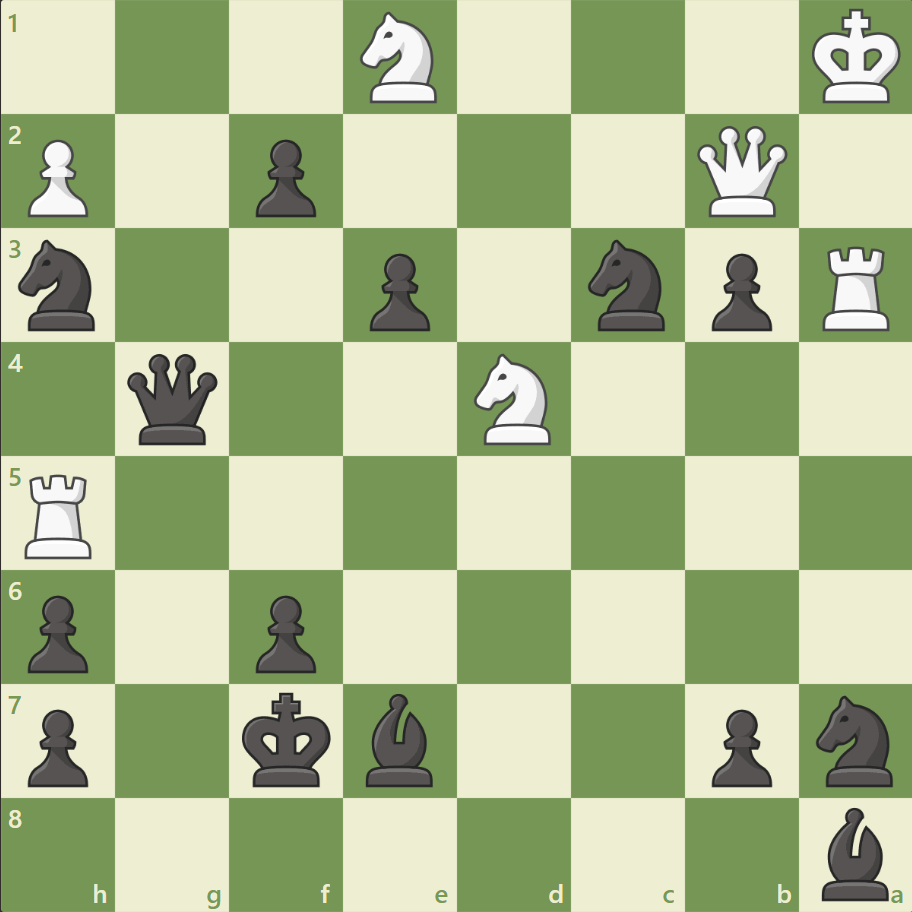K: (806, 4, 906, 112)
N: (351, 7, 449, 110), (465, 348, 562, 450)
P: (20, 132, 95, 223)
Q: (691, 122, 790, 222)
R: (19, 466, 102, 563), (814, 239, 897, 336)
b: (812, 801, 896, 904), (358, 687, 442, 790)
k: (238, 685, 338, 793)
n: (806, 688, 903, 791), (579, 234, 676, 337), (11, 234, 108, 337)
p: (701, 700, 776, 791), (20, 700, 95, 791), (247, 586, 322, 677), (20, 586, 95, 677), (701, 246, 776, 337), (247, 132, 322, 223), (361, 246, 435, 337)
q: (124, 349, 223, 449)
